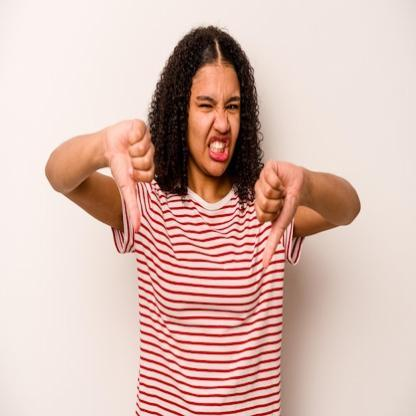thumb_down: (105, 115, 157, 236), (252, 156, 304, 272)
